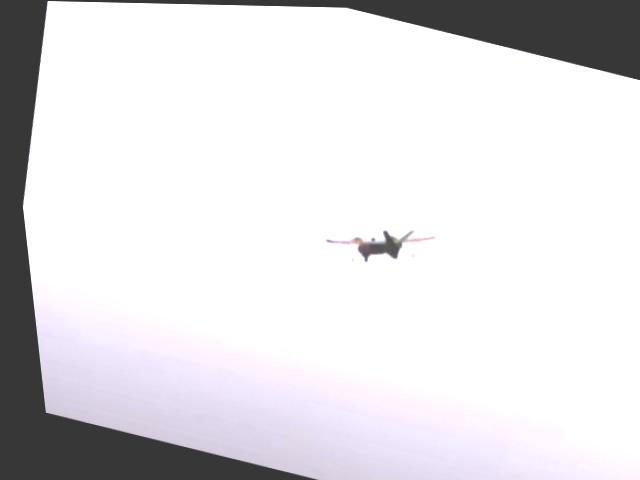iha: (307, 201, 440, 284)
